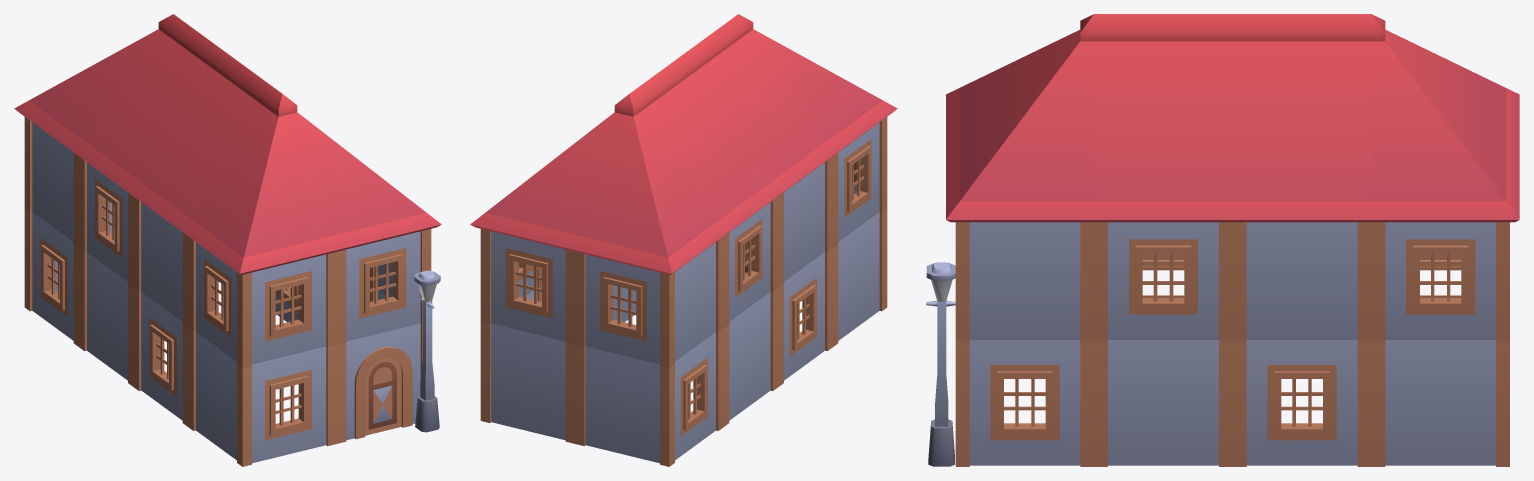
The model's file is inn.glb.
The picture shows the model from 3 angles, left to right: view 1: azimuth 30°, elevation 25°; view 2: azimuth 150°, elevation 25°; view 3: azimuth 270°, elevation 25°; orthographic projection. The views are drawn at different scales.
Visible parts, largest first — view 1: inn; view 2: inn; view 3: inn.
Part boxes in pixels (x1,y1,x2,y2): inn: (14, 14, 441, 466); inn: (470, 14, 897, 466); inn: (926, 14, 1519, 466).
Size of the model in its own units: 6.42 by 9.42 by 12.85.
Materials: 33 (33 with a texture image).
